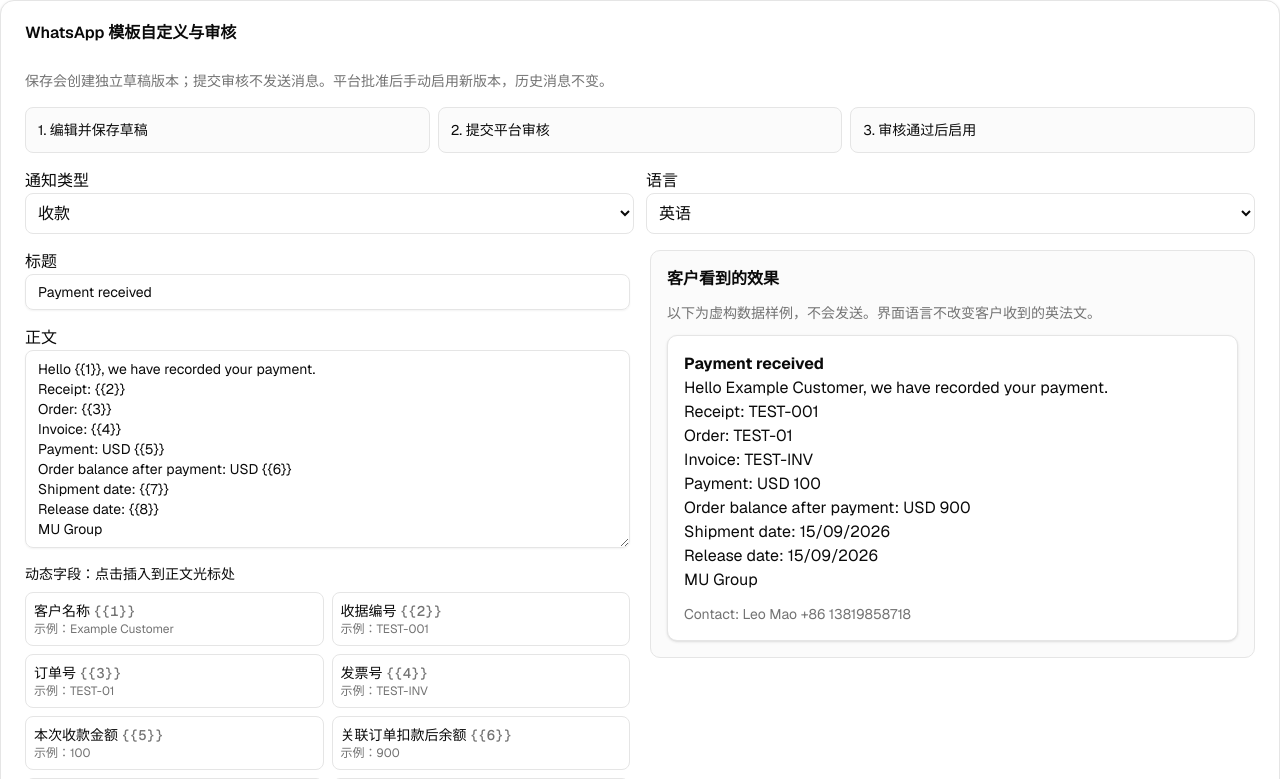
Test: uses readable Chinese variables and filters versions without translating message text
Expected: the button "关联订单扣款后余额 {{6}} 示例：900" is shown, [332,716,630,770]
Step 1. Select "欠款提醒 60天" in the dropdown labelled "通知类型" → (330, 214), box [25,193,634,234]
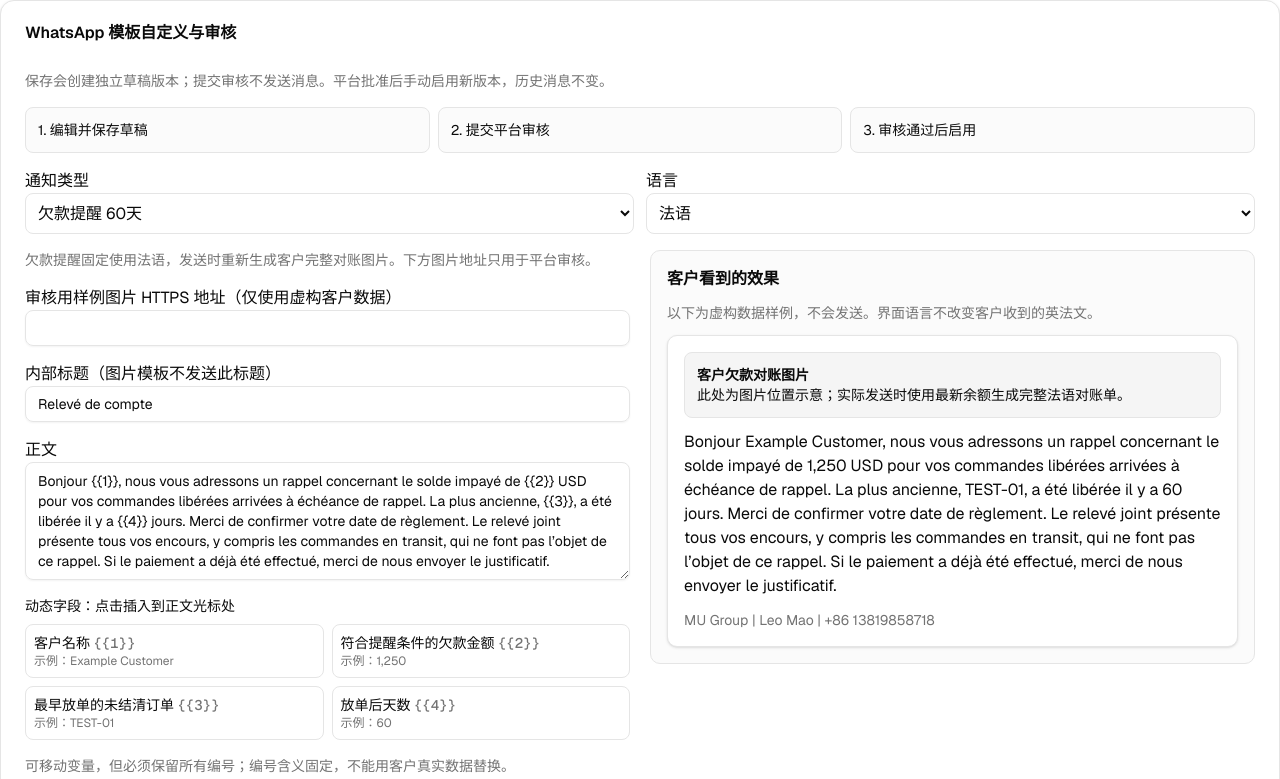
Expected: the dropdown labelled "语言" is disabled, [646,193,1255,234]
Expected: the dropdown labelled "语言" shows "法语", [646,193,1255,234]
Expected: the text "客户欠款对账图片" is shown, [697,366,809,384]
